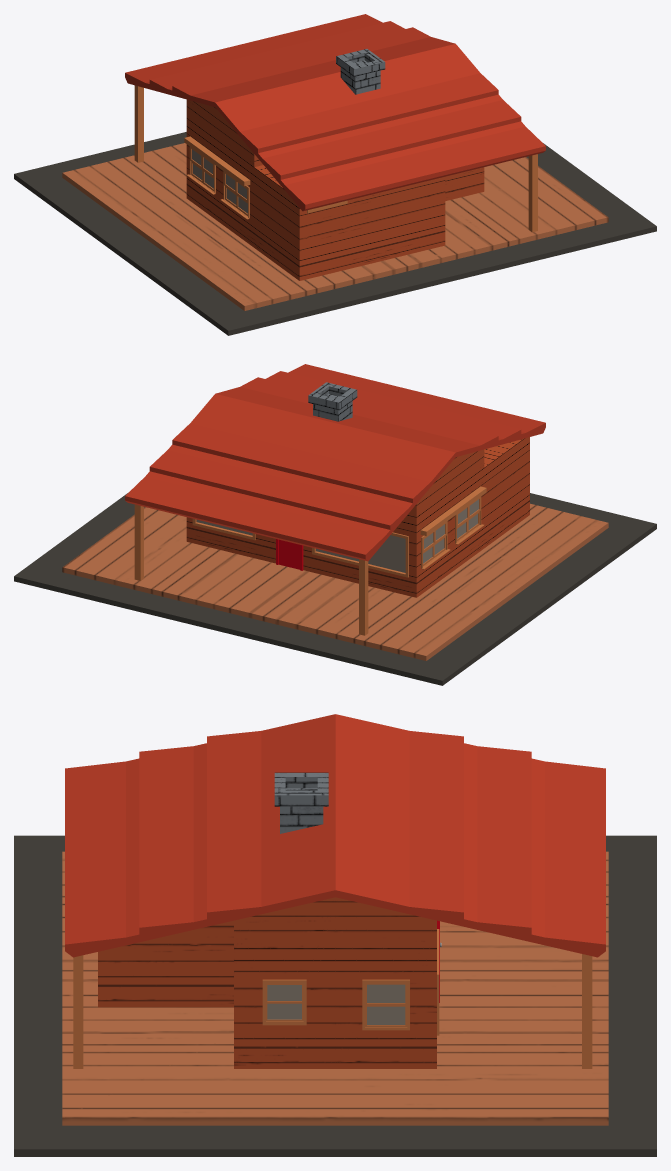
The model's file is WoodHouse2.fbx.
3 renders of one model, top to bottom at view 1: azimuth 30°, elevation 25°; view 2: azimuth 150°, elevation 25°; view 3: azimuth 270°, elevation 25°, orthographic. The views are drawn at different scales.
Visible parts, largest first — view 1: House2.039; view 2: House2.039; view 3: House2.039.
Part boxes in pixels (x1=…): House2.039: x1=14, y1=14, x2=656, y2=335; House2.039: x1=14, y1=364, x2=656, y2=685; House2.039: x1=14, y1=714, x2=656, y2=1156.
Bounding box in the file's own units: 17.66 × 5.95 × 15.31.
1 material, 1 textured.
